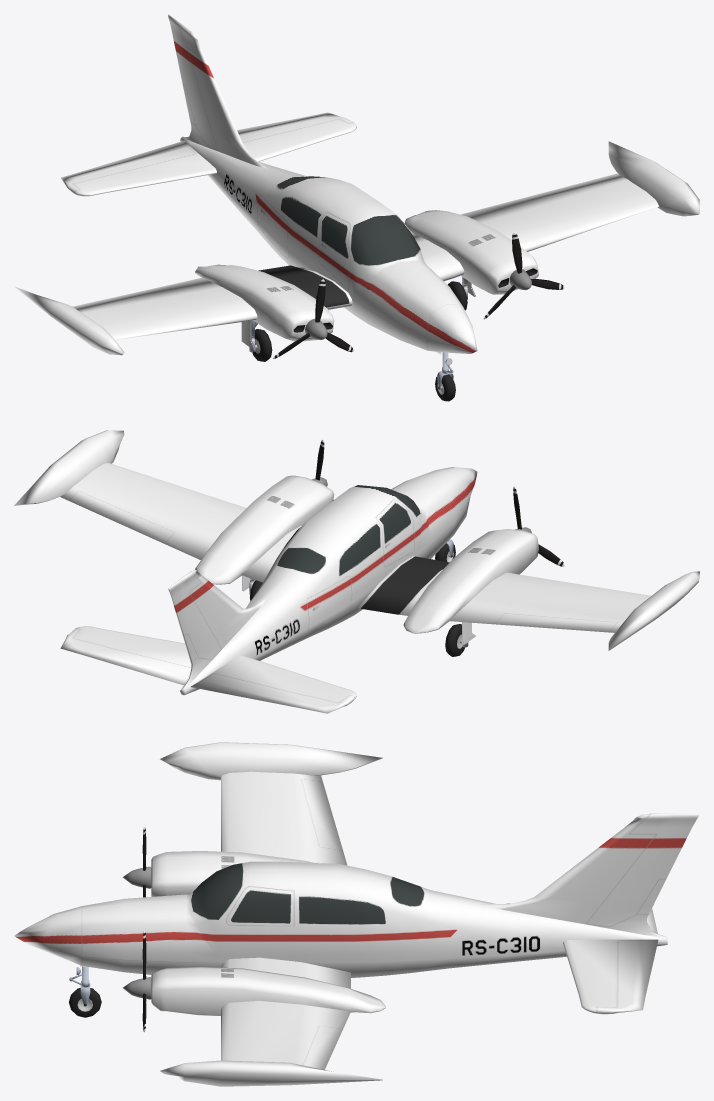
3 renders of one model, top to bottom at view 1: azimuth 30°, elevation 25°; view 2: azimuth 150°, elevation 25°; view 3: azimuth 270°, elevation 25°, orthographic. The views are drawn at different scales.
Visible parts, largest first — view 1: Fuselage, Wing1, Wing2, Engine, LowerTail, Engine2, Stabilizer2, Stabilizer1, Wingtipfueltank 1, Wingtipfueltank 2; view 2: Fuselage, Wing2, Wing1, Engine, Engine2, Stabilizer2, LowerTail, Stabilizer1, Wingtipfueltank 1, Wingtipfueltank 2, Cylinder.003; view 3: Fuselage, LowerTail, Wing2, Wing1, Engine, Stabilizer1, Wingtipfueltank 2, Wingtipfueltank 1, Engine2, FrontWheel.
Boxes of the visible parts, x1=… form: Fuselage: x1=180, y1=136, x2=477, y2=353; Wing1: x1=410, y1=173, x2=658, y2=280; Wing2: x1=73, y1=265, x2=352, y2=339; Engine: x1=404, y1=210, x2=538, y2=294; LowerTail: x1=168, y1=14, x2=266, y2=168; Engine2: x1=195, y1=264, x2=334, y2=341; Stabilizer2: x1=61, y1=141, x2=216, y2=196; Stabilizer1: x1=237, y1=112, x2=356, y2=161; Wingtipfueltank 1: x1=608, y1=141, x2=699, y2=216; Wingtipfueltank 2: x1=14, y1=286, x2=124, y2=355; Fuselage: x1=180, y1=467, x2=477, y2=695; Wing2: x1=358, y1=556, x2=650, y2=632; Wing1: x1=60, y1=463, x2=301, y2=582; Engine: x1=195, y1=475, x2=334, y2=584; Engine2: x1=403, y1=529, x2=538, y2=633; Stabilizer2: x1=190, y1=655, x2=356, y2=713; LowerTail: x1=168, y1=569, x2=267, y2=688; Stabilizer1: x1=60, y1=626, x2=191, y2=685; Wingtipfueltank 1: x1=14, y1=430, x2=124, y2=505; Wingtipfueltank 2: x1=608, y1=571, x2=699, y2=650; Cylinder.003: x1=445, y1=624, x2=464, y2=656; Fuselage: x1=14, y1=861, x2=667, y2=977; LowerTail: x1=480, y1=813, x2=699, y2=938; Wing2: x1=221, y1=771, x2=347, y2=865; Wing1: x1=221, y1=957, x2=350, y2=1069; Engine: x1=151, y1=966, x2=385, y2=1015; Stabilizer1: x1=563, y1=939, x2=658, y2=1014; Wingtipfueltank 2: x1=160, y1=742, x2=382, y2=780; Wingtipfueltank 1: x1=160, y1=1060, x2=382, y2=1086; Engine2: x1=151, y1=851, x2=313, y2=896; FrontWheel: x1=69, y1=988, x2=101, y2=1017.
Size of the model in its own units: 11.16 by 3.22 by 9.85.
Materials: 14 (5 with a texture image).
